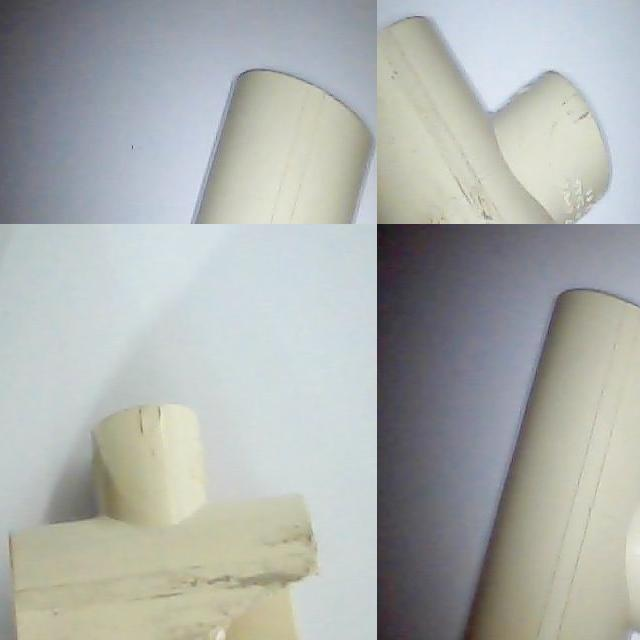Defective: (206, 573, 323, 640)
T Joint: (9, 405, 322, 640), (460, 289, 640, 640), (377, 16, 613, 224), (192, 69, 371, 224)
